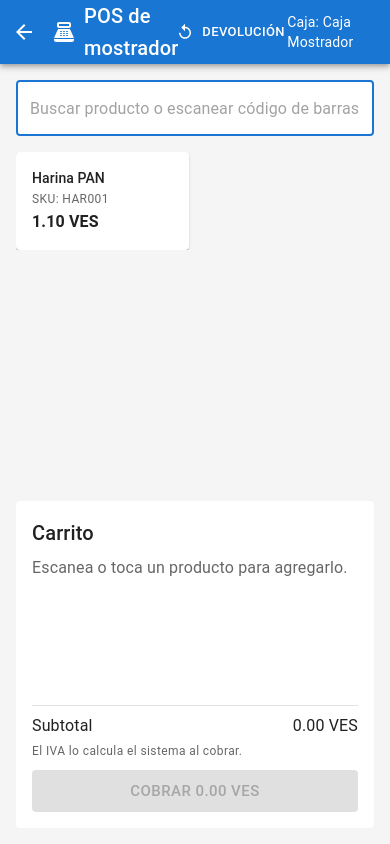
Test case: PosDevolucion › venta fiscal: aviso de NC fiscal y recibo con base, IVA y número de control
This screenshot has width=390, height=844.
Expected: the heading "Harina PAN" is shown, top-left (32, 170), bottom-right (105, 186)
Click the button with test id "pos-abrir-devolucion": (232,32) top-left (192, 17), bottom-right (271, 47)
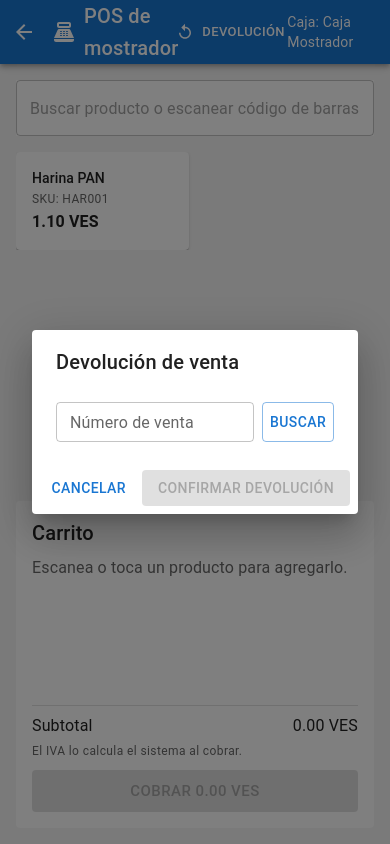
In the field with test id "pos-dev-numero": (155,422) top-left (56, 402), bottom-right (254, 442), type "NV-0001"
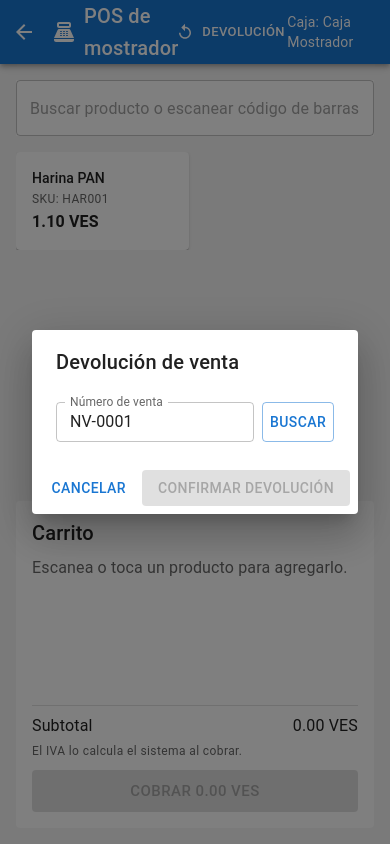
Press Enter in the field with test id "pos-dev-numero", box top-left (56, 402), bottom-right (254, 442)
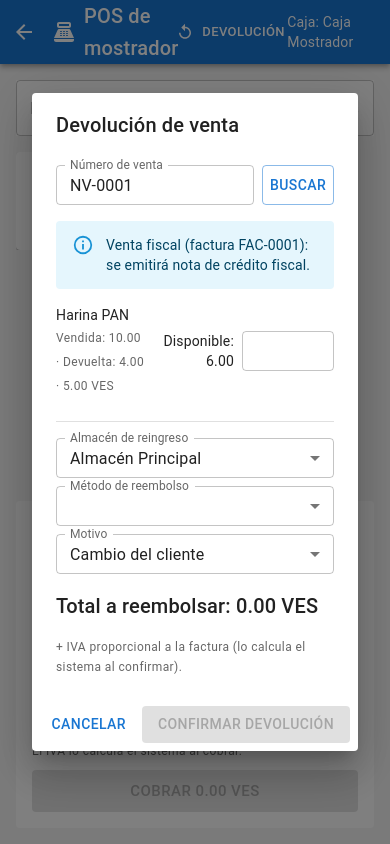
Expected: the element with test id "pos-dev-lineas" is shown, top-left (56, 305), bottom-right (334, 405)
Expected: the message with test id "pos-dev-tipo-venta" shows "FAC-0001", top-left (106, 237), bottom-right (310, 273)
In the field with test id "pos-dev-cantidad-det-1": (288,351) top-left (242, 331), bottom-right (334, 371), type "2"
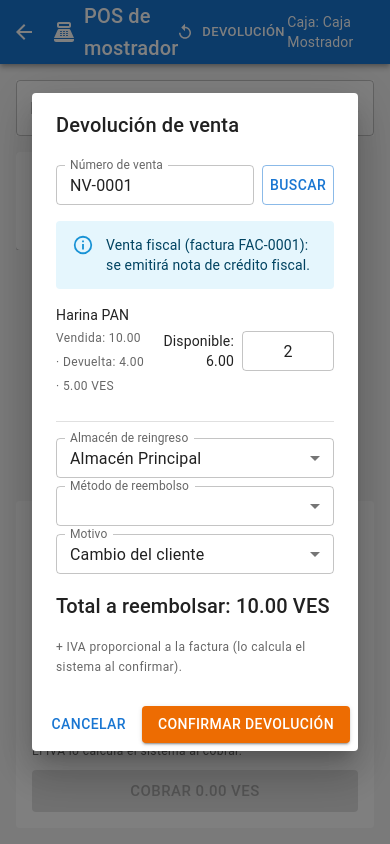
Select "Efectivo" in the dropdown with test id "pos-dev-metodo": (195,506) top-left (56, 486), bottom-right (334, 526)
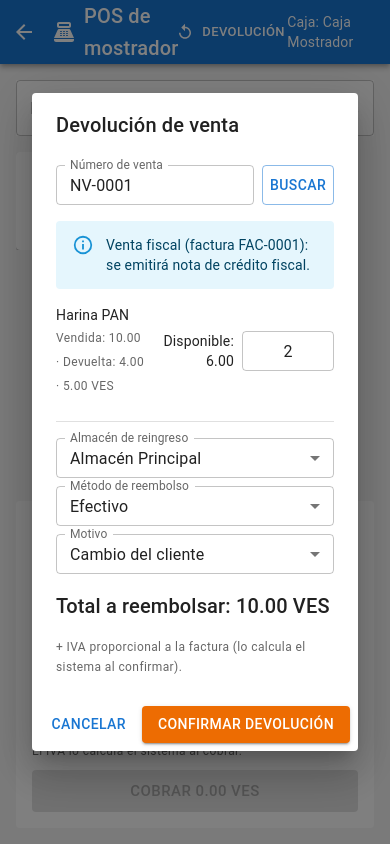
Click the button with test id "pos-dev-confirmar": (246,724) top-left (142, 706), bottom-right (350, 743)
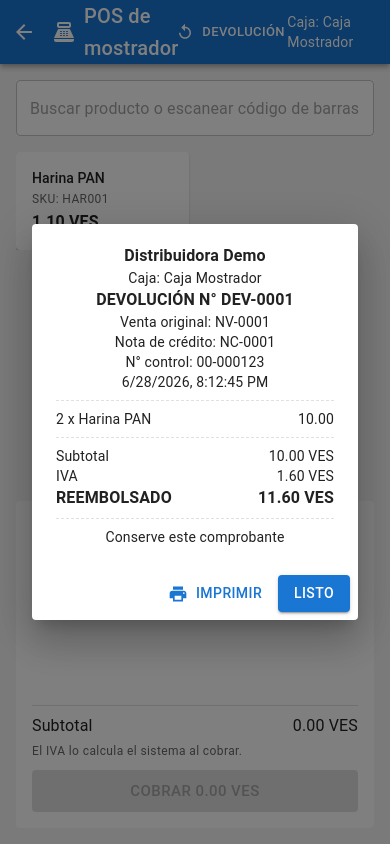
Expected: the element with test id "pos-dev-recibo" is shown, top-left (56, 244), bottom-right (334, 547)
Expected: the text with test id "pos-dev-recibo-nc" shows "NC-0001", top-left (115, 334), bottom-right (275, 350)
Expected: the text with test id "pos-dev-recibo-total" reads "11.60 VES", top-left (258, 486), bottom-right (334, 510)
